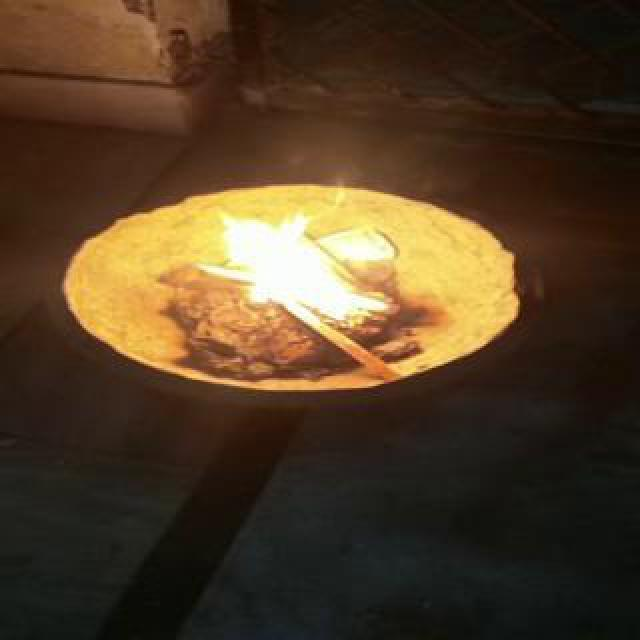Fire: (218, 206, 392, 330)
